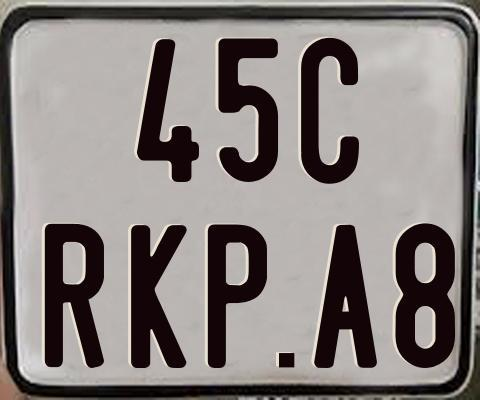4: (137, 39, 200, 188)
5: (217, 36, 283, 184)
8: (395, 221, 456, 366)
A: (311, 222, 374, 369)
C: (301, 36, 362, 186)
K: (130, 223, 187, 369)
P: (205, 221, 264, 368)
R: (43, 223, 108, 373)
